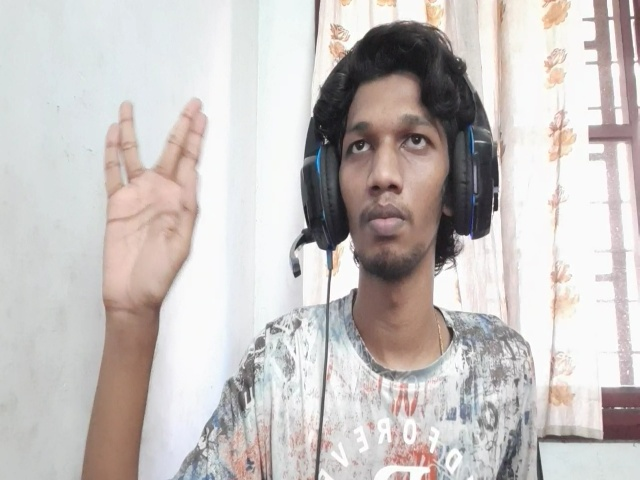LiveLong: (101, 99, 208, 312)
